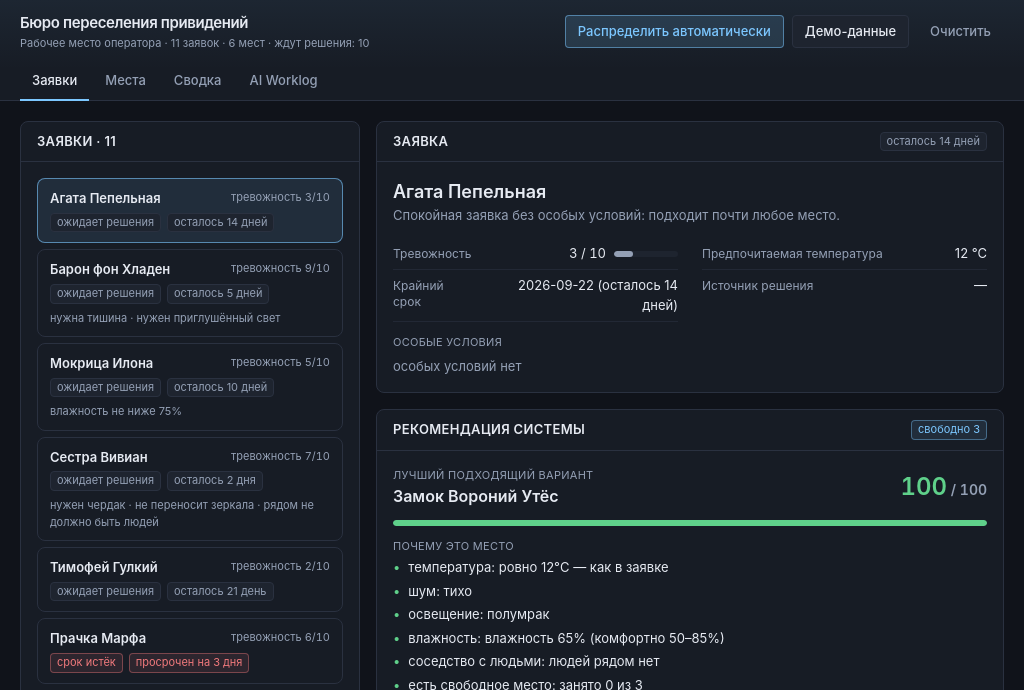
Scenario: AI Worklog › доступен из основной навигации и содержит фактические разделы
What coordinates should you click on to do the following:
click the tab "AI Worklog"
I would click on:
 (284, 82)
Its box is left=237, top=63, right=330, bottom=100.
(page scrolled)
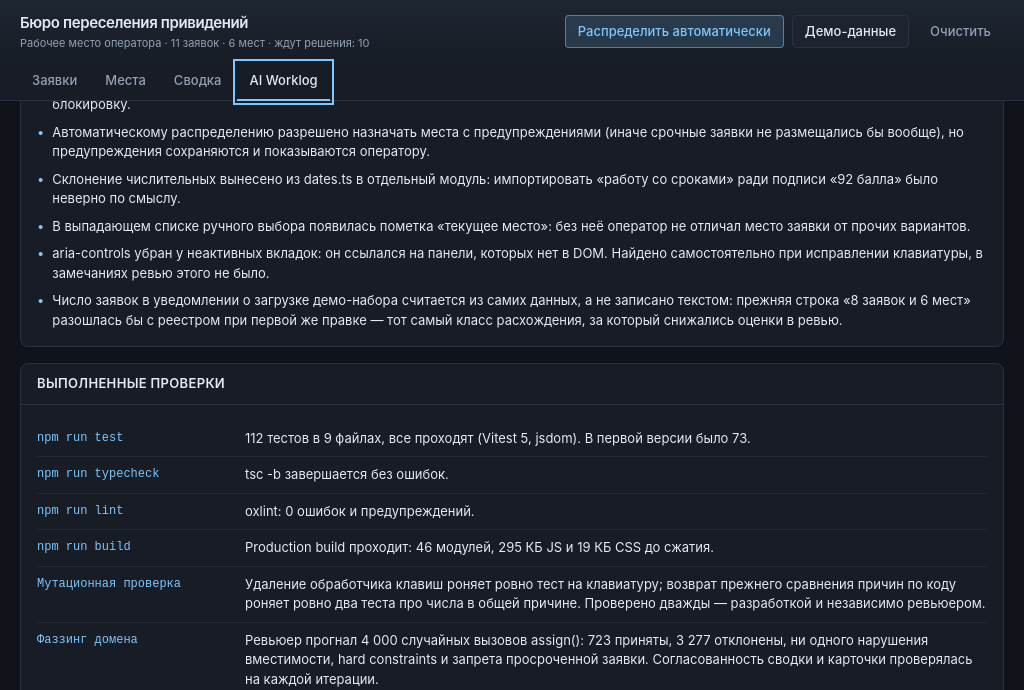
Expected: the heading "Выполненные проверки" is shown, left=37, top=374, right=225, bottom=394
